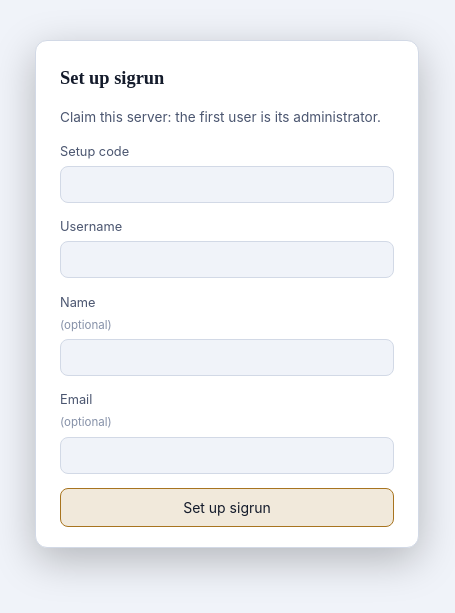
it: AuthGate › onboarding shows a live derived-username preview as the user types
Type "Alice Smith" into the field labelled "Username".
click(227, 260); type("Alice Smith")  # box [60, 241, 394, 278]
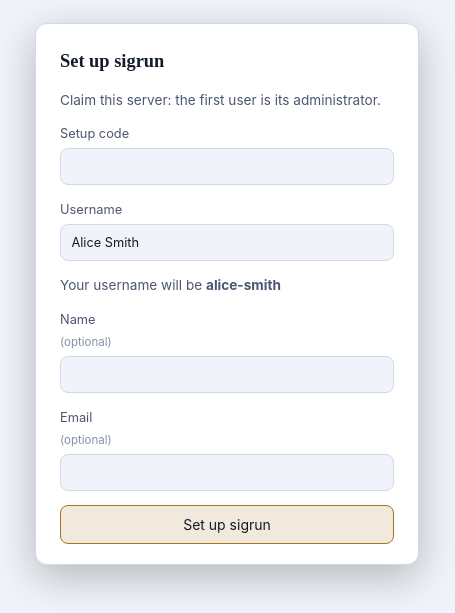
Check: the text "alice-smith" is shown, box [206, 277, 281, 293]
